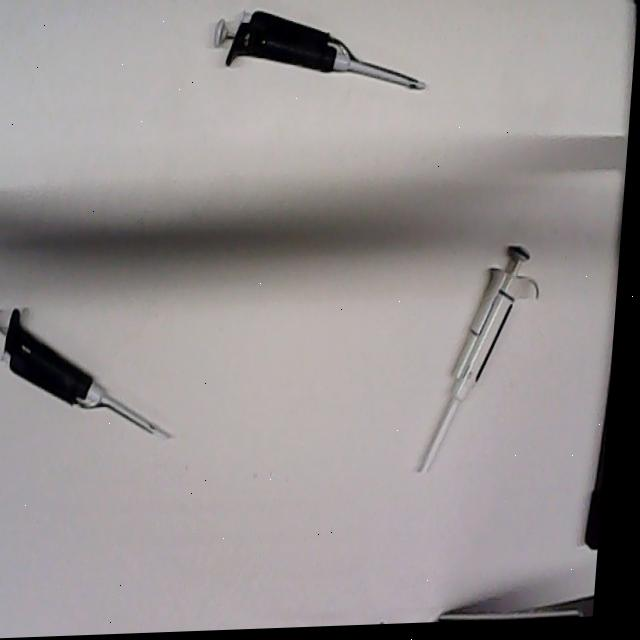Single Channel Pipettor: (425, 244, 551, 479), (0, 295, 186, 450), (211, 3, 435, 100)
